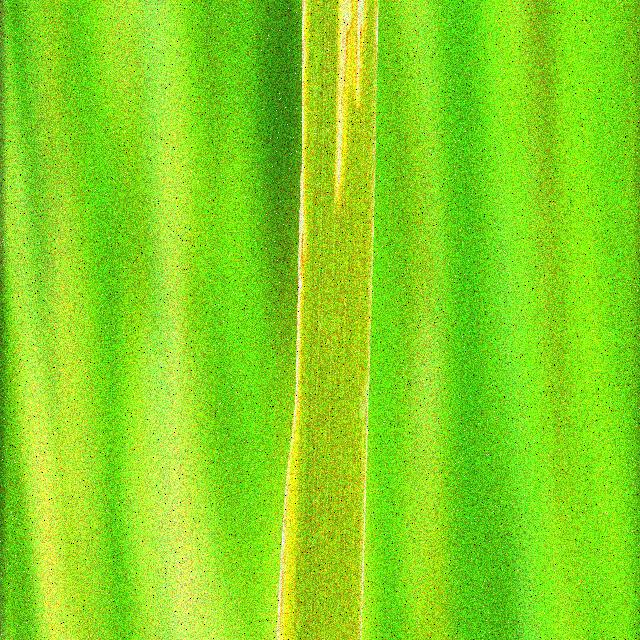BLS: (336, 0, 353, 198), (278, 466, 289, 615), (355, 0, 365, 102), (277, 609, 282, 640)
